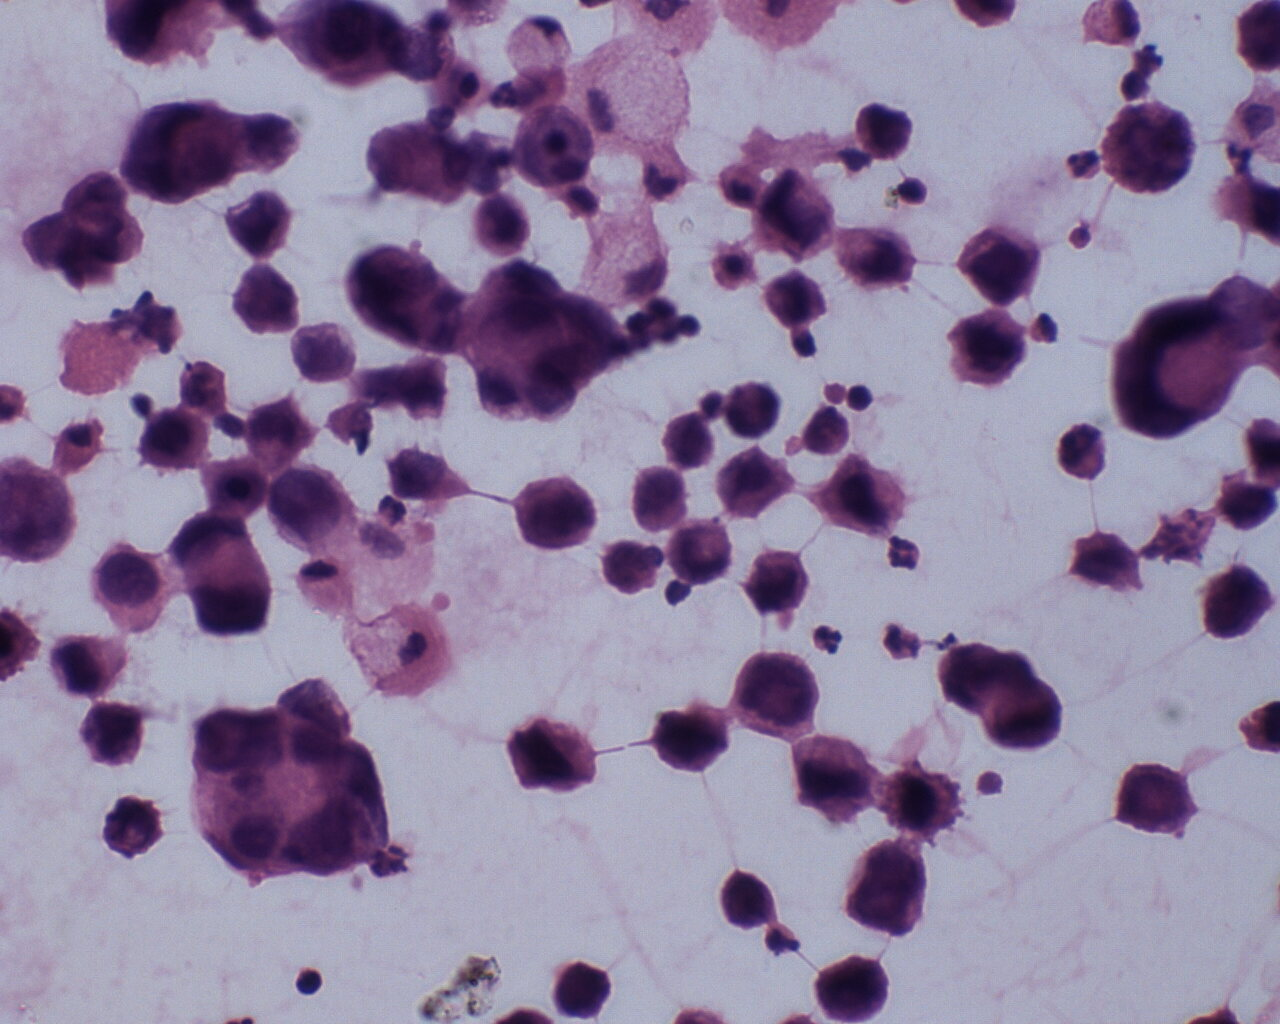ab: (729, 643, 824, 737), (83, 541, 177, 634), (270, 463, 355, 559), (845, 840, 928, 939), (1110, 753, 1204, 840), (884, 752, 976, 837), (958, 222, 1046, 307), (946, 303, 1031, 388), (810, 950, 906, 1024), (45, 626, 129, 703), (511, 471, 594, 549), (654, 700, 734, 776), (134, 403, 213, 480), (219, 188, 297, 263), (230, 261, 303, 336), (741, 546, 813, 616), (79, 699, 148, 767), (851, 99, 918, 166), (550, 958, 616, 1020), (761, 267, 835, 323), (472, 192, 534, 258), (627, 464, 684, 533)
histo: (571, 28, 694, 155), (504, 13, 577, 83)
neutro: (1065, 143, 1108, 187), (886, 530, 920, 576)
